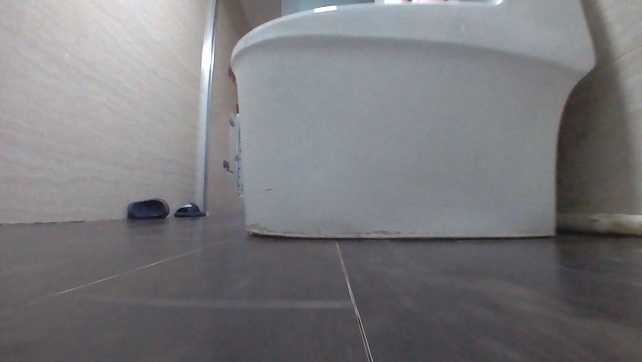slipper: (128, 194, 170, 220), (175, 199, 206, 217)
toilet: (222, 0, 597, 242)
